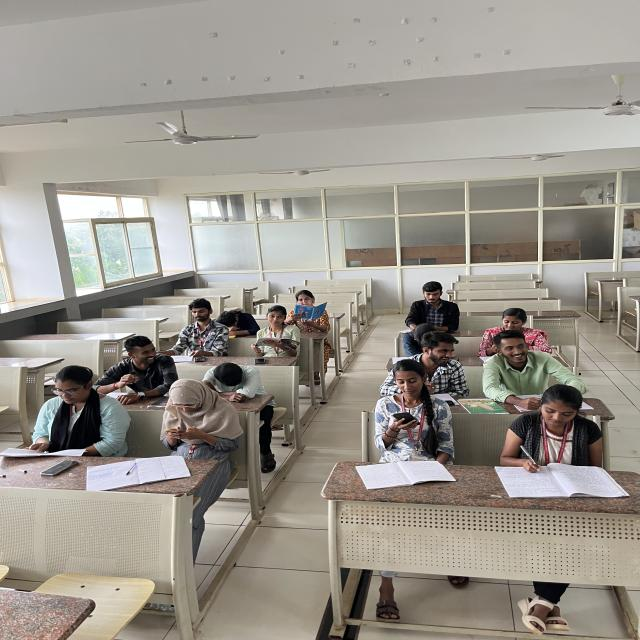Reading: (14, 362, 115, 462), (162, 297, 227, 361), (288, 286, 336, 344)
Sleeping: (197, 361, 277, 408), (212, 305, 259, 335)
Using Phone: (348, 357, 461, 458), (150, 375, 244, 467)
Writing: (494, 382, 629, 499)
